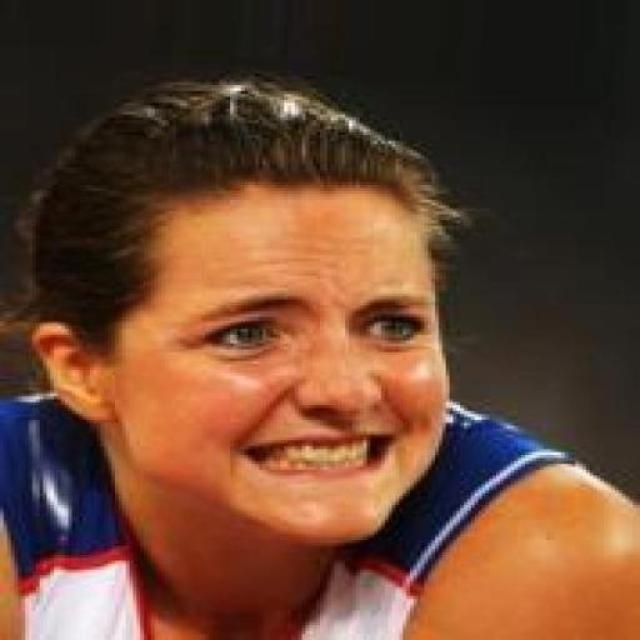bareface: (33, 75, 441, 540)
